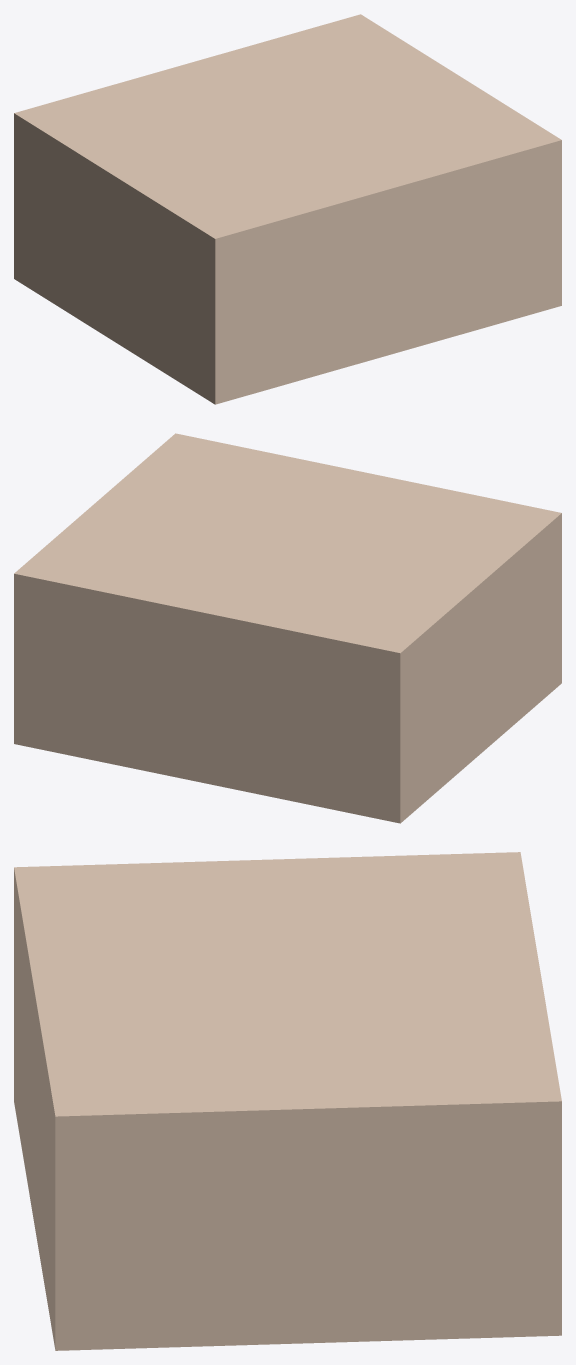
The picture shows the model from 3 angles, top to bottom: view 1: azimuth 30°, elevation 25°; view 2: azimuth 150°, elevation 25°; view 3: azimuth 270°, elevation 25°; orthographic projection. The views are drawn at different scales.
Parts seen in each view (by area): view 1: SM_47d52f2af29a54043967; view 2: SM_47d52f2af29a54043967; view 3: SM_47d52f2af29a54043967.
Boxes of the visible parts, x1,y1,x2,y2 form: SM_47d52f2af29a54043967: (14, 14, 561, 404); SM_47d52f2af29a54043967: (14, 433, 561, 823); SM_47d52f2af29a54043967: (14, 852, 561, 1350).
Size of the model in its own units: 14.52 by 12.72 by 6.
